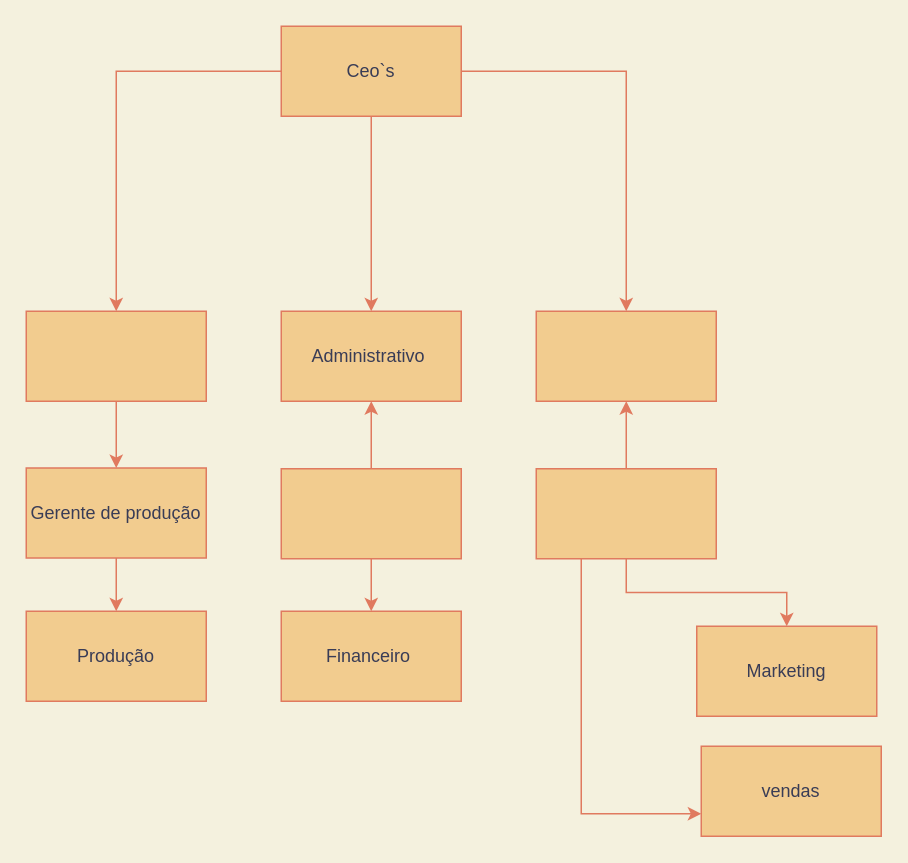
Some shapes in this 908 by 863 pixel diagram are drawn without their labels. Here are the shapes that lost their labels. From the top down, the box of each, then its label:
(25, 310, 206, 401): Operação
(535, 310, 716, 401): Comercial
(280, 467, 461, 559): Gerente financeiro
(535, 467, 716, 559): Gerente comercial
